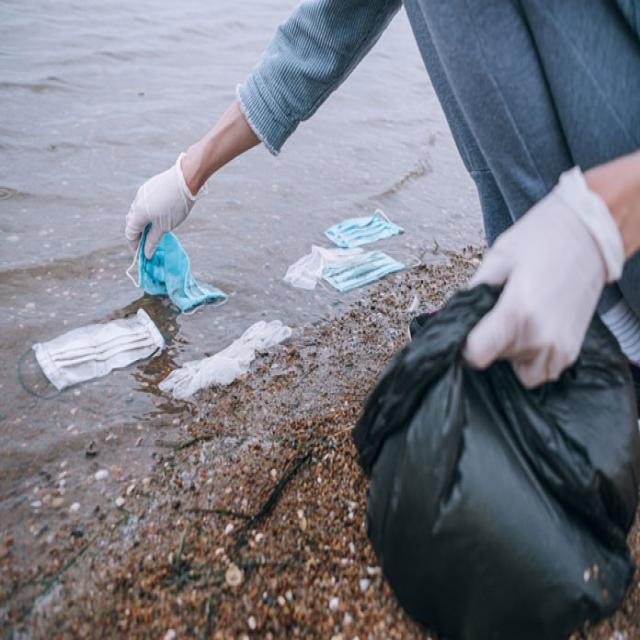non-organic waste: (30, 300, 163, 406), (122, 240, 231, 308), (316, 242, 416, 296), (325, 208, 399, 251)
